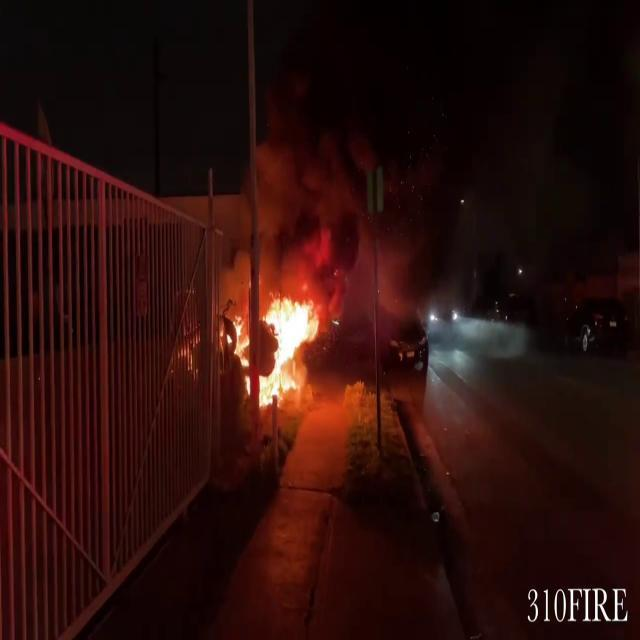Fire: (236, 286, 322, 404)
Smoke: (236, 62, 368, 296)
